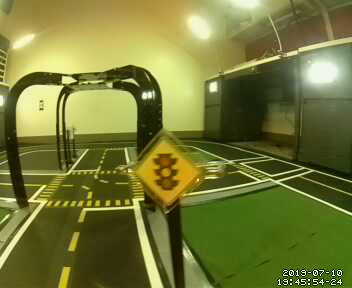Traffic light sign: (132, 137, 198, 203)
